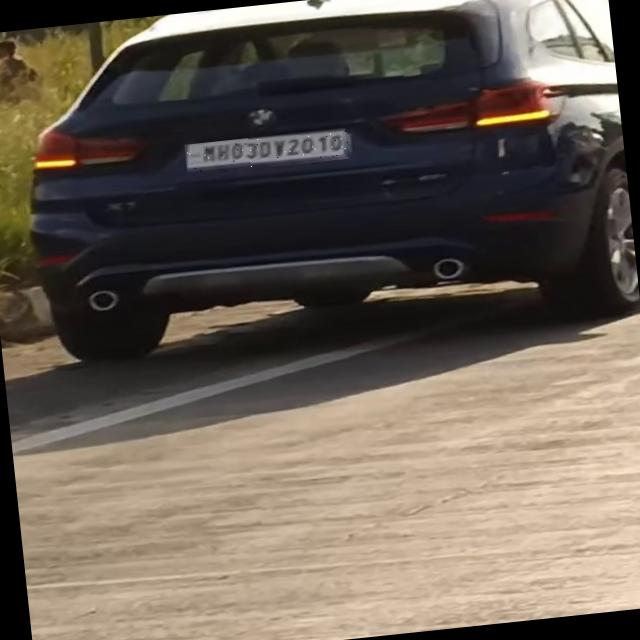Plate: (186, 129, 352, 176)
